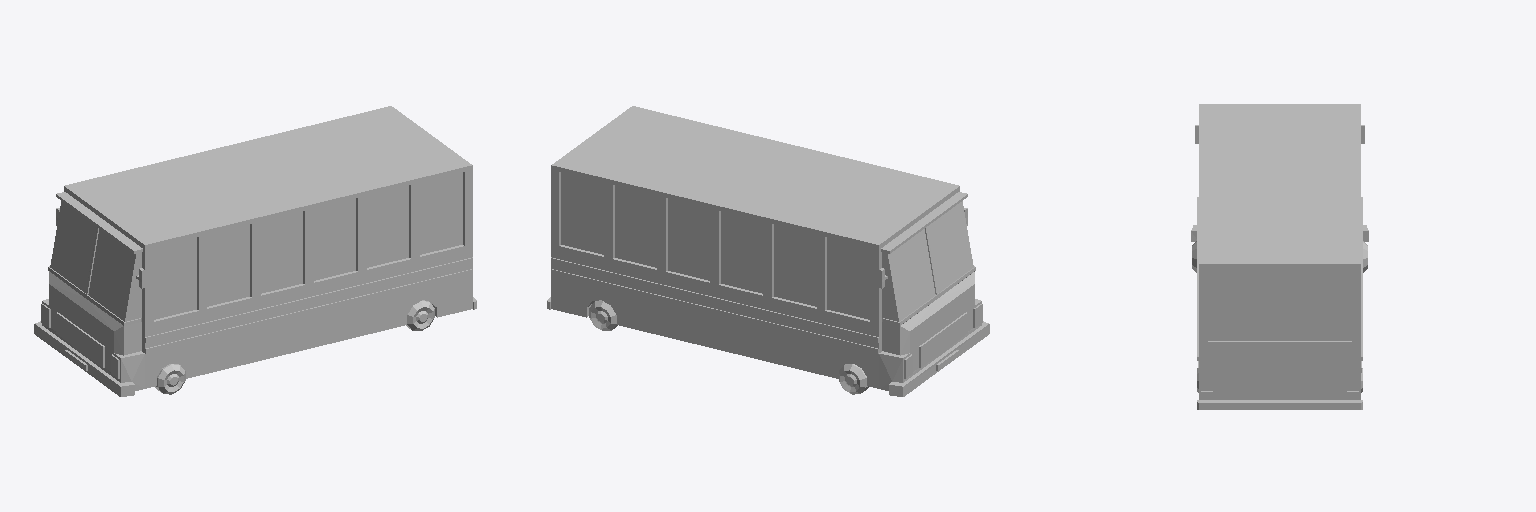
The model's file is Bus.obj.
3 views of the same model, side by side, from view 1: azimuth 30°, elevation 25°; view 2: azimuth 150°, elevation 25°; view 3: azimuth 270°, elevation 25° (orthographic).
Visible parts, largest first — view 1: FrontWheels_Cylinder.006; view 2: FrontWheels_Cylinder.006; view 3: FrontWheels_Cylinder.006.
Boxes of the visible parts, box(x1,y1,x2,y2) form: FrontWheels_Cylinder.006: box(34, 106, 476, 396); FrontWheels_Cylinder.006: box(547, 106, 989, 396); FrontWheels_Cylinder.006: box(1191, 104, 1368, 409).
Size of the model in its own units: 4.09 by 1.68 by 1.74.